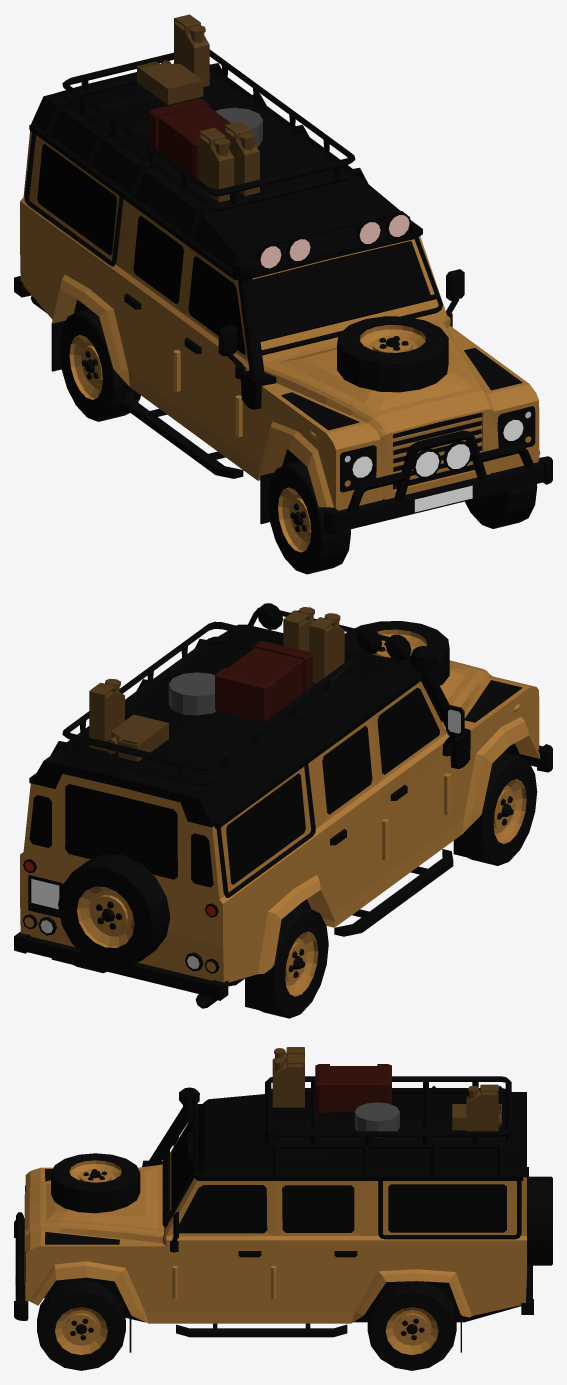
File: landyroamer.glb
3 views of the same model, one above another, from view 1: azimuth 30°, elevation 25°; view 2: azimuth 150°, elevation 25°; view 3: azimuth 270°, elevation 25° (orthographic). The views are drawn at different scales.
Visible parts, largest first — view 1: body, glass, wheel_fr_stock, wheel_rr_stock, lights, wheel_fl_stock, plate_front; view 2: body, glass, wheel_fr_stock, wheel_rr_stock, plate_rear; view 3: body, glass, wheel_fl_stock, wheel_rl_stock.
Boxes of the visible parts, <box> form: body: <box>14,14,552,535</box>; glass: <box>37,144,430,354</box>; wheel_fr_stock: <box>267,461,350,574</box>; wheel_rr_stock: <box>59,309,140,421</box>; lights: <box>260,215,531,486</box>; wheel_fl_stock: <box>465,484,537,528</box>; plate_front: <box>414,485,472,512</box>; body: <box>14,603,552,1013</box>; glass: <box>29,633,439,887</box>; wheel_fr_stock: <box>468,752,537,865</box>; wheel_rr_stock: <box>259,906,328,1018</box>; plate_rear: <box>28,875,62,917</box>; body: <box>14,1047,552,1352</box>; glass: <box>171,1104,506,1233</box>; wheel_fl_stock: <box>37,1280,125,1370</box>; wheel_rl_stock: <box>367,1281,456,1370</box>.
Size of the model in its own units: 1.61 by 2.05 by 3.88.
